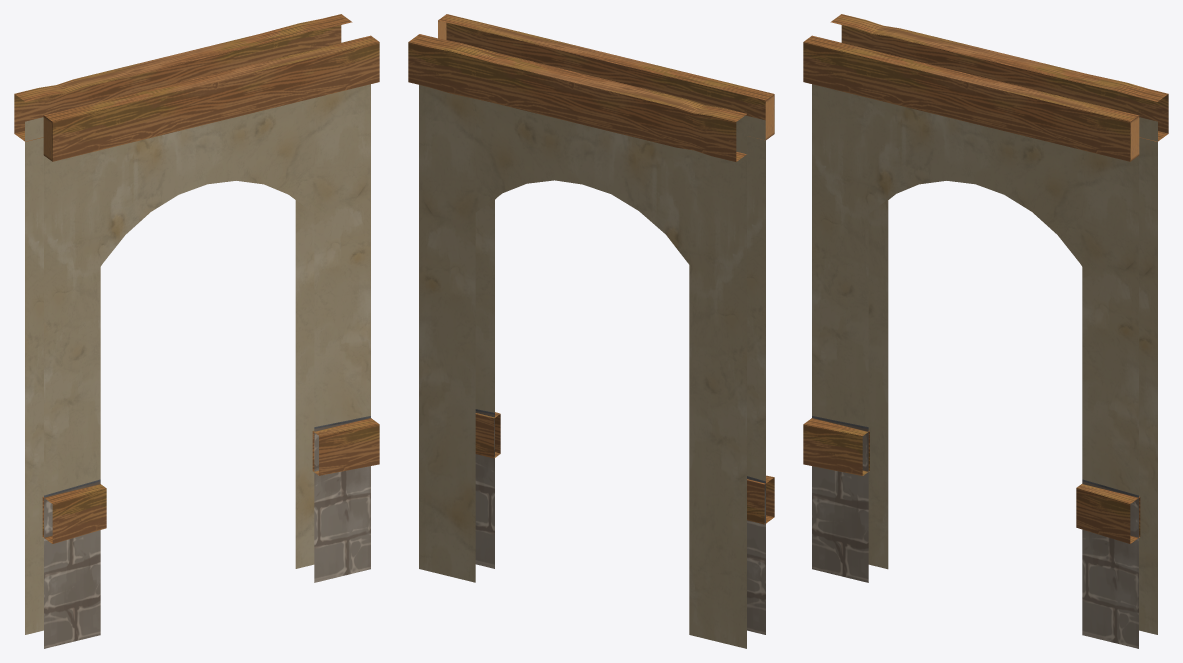
File: Wall_Plaster_Door_Round.glb
3 views of the same model, side by side, from view 1: azimuth 30°, elevation 25°; view 2: azimuth 150°, elevation 25°; view 3: azimuth 330°, elevation 25° (orthographic).
Parts seen in each view (by area): view 1: Wall_Plaster_Door_Round; view 2: Wall_Plaster_Door_Round; view 3: Wall_Plaster_Door_Round.
Boxes of the visible parts, x1,y1,x2,y2 form: Wall_Plaster_Door_Round: (14,14,379,648); Wall_Plaster_Door_Round: (408,14,774,648); Wall_Plaster_Door_Round: (803,14,1168,648).
Size of the model in its own units: 2 by 3.12 by 0.4065.
Materials: 3 (3 with a texture image).
